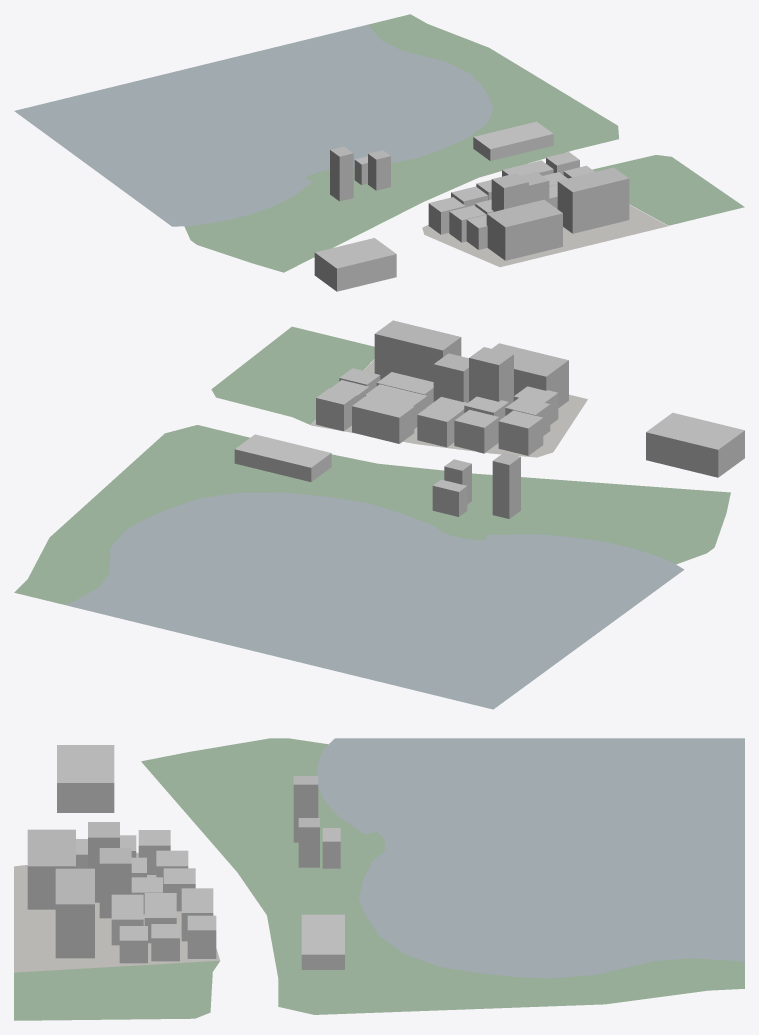
The model's file is 115_82_mid.glb.
3 views of the same model, one above another, from view 1: azimuth 30°, elevation 25°; view 2: azimuth 150°, elevation 25°; view 3: azimuth 270°, elevation 25° (orthographic). The views are drawn at different scales.
Bounding box in the file's own units: 459 × 49.94 × 500.
